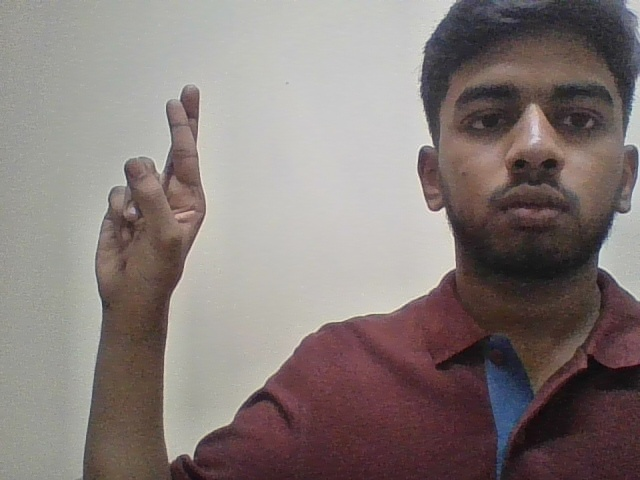R: (89, 70, 218, 330)
